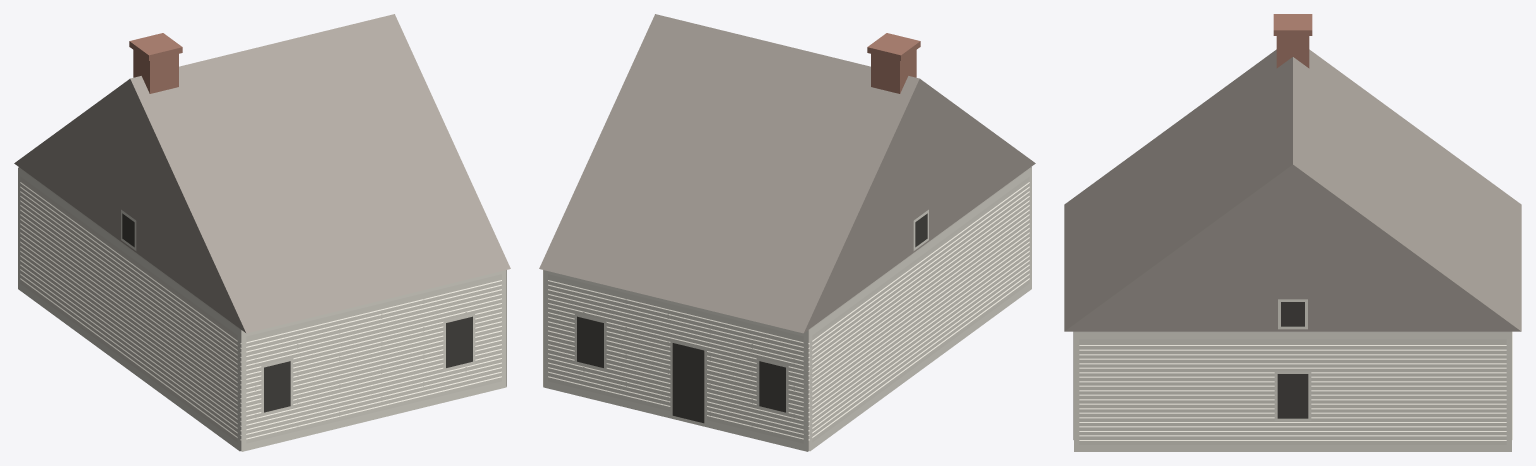
Rendered from recon_1835_blk_randolph_clark_h1_03__inferred_1835.glb.
3 renders of one model, left to right at view 1: azimuth 30°, elevation 25°; view 2: azimuth 150°, elevation 25°; view 3: azimuth 270°, elevation 25°, orthographic.
Parts seen in each view (by area): view 1: recon_1835_blk_randolph_clark_h1_03__inferred_1835; view 2: recon_1835_blk_randolph_clark_h1_03__inferred_1835; view 3: recon_1835_blk_randolph_clark_h1_03__inferred_1835.
Part boxes in pixels (<box>): recon_1835_blk_randolph_clark_h1_03__inferred_1835: <box>14,14,510,451</box>; recon_1835_blk_randolph_clark_h1_03__inferred_1835: <box>539,14,1035,451</box>; recon_1835_blk_randolph_clark_h1_03__inferred_1835: <box>1064,14,1521,451</box>.
Size of the model in its own units: 7.77 by 8.86 by 11.68.
